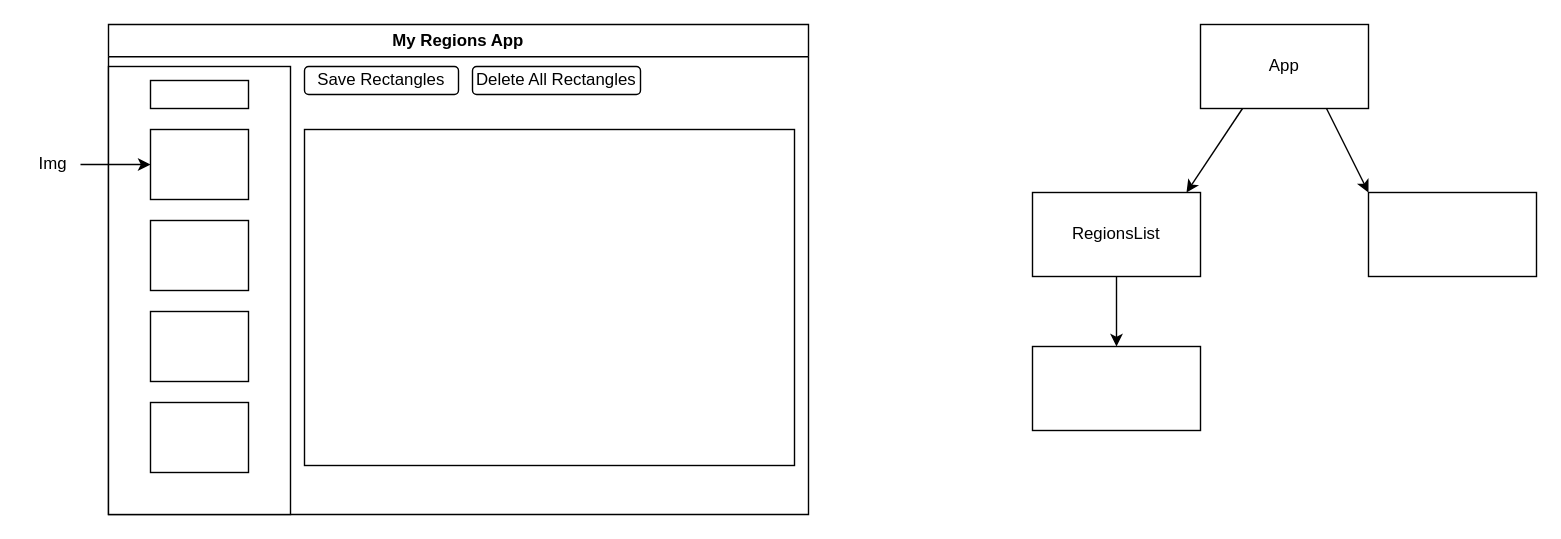
This 1561x539 diagram has some shape labels left out. The box of each missing label's shape, as (x1, y1, x2, y2) in pixels:
Add image+: (149, 79, 248, 108)
RegionsCard: (1031, 345, 1200, 430)
RegionsOverview: (1367, 191, 1536, 276)
